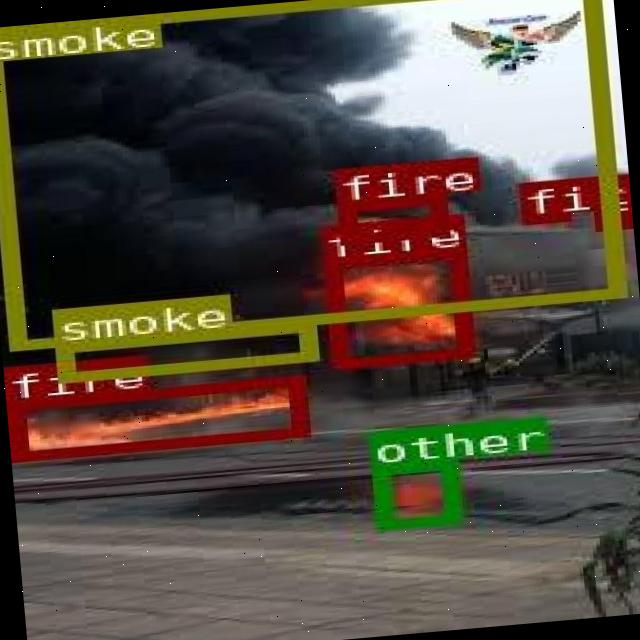fire: (6, 376, 303, 460), (322, 248, 471, 368), (336, 192, 443, 243), (517, 177, 567, 223), (589, 191, 626, 228)
smoke: (0, 0, 622, 347), (52, 320, 312, 381)
